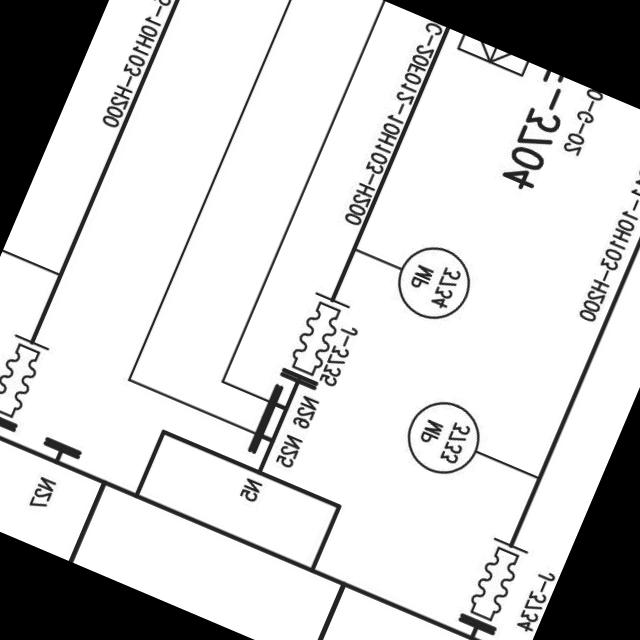EJ: (454, 525, 534, 630), (278, 281, 354, 383), (0, 325, 54, 426)
